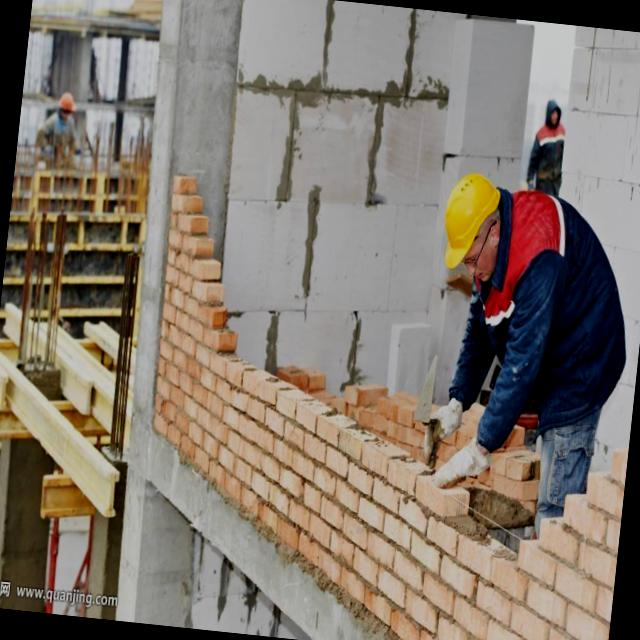helmet: (436, 165, 506, 278)
no-helmet: (540, 92, 565, 125)
no-vest: (485, 188, 632, 410), (532, 130, 564, 170)
